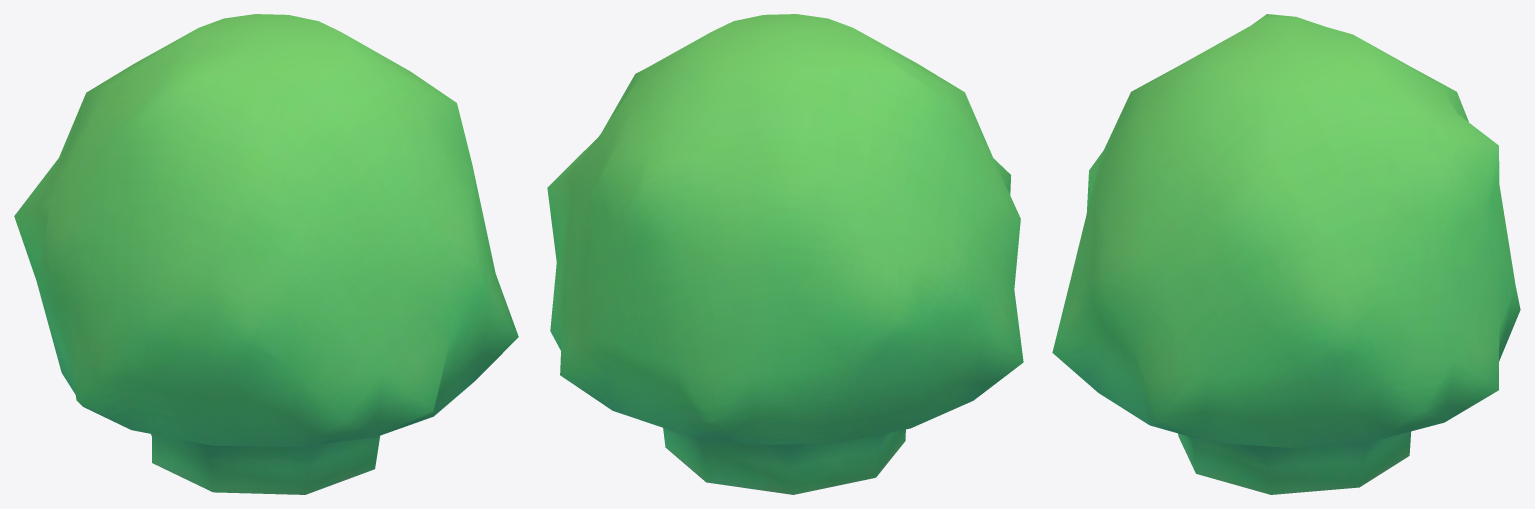
The model's file is bush.glb.
The picture shows the model from 3 angles, left to right: view 1: azimuth 30°, elevation 25°; view 2: azimuth 150°, elevation 25°; view 3: azimuth 270°, elevation 25°; orthographic projection. The views are drawn at different scales.
Parts seen in each view (by area): view 1: Bush001; view 2: Bush001; view 3: Bush001.
Boxes of the visible parts, x1=… form: Bush001: x1=14, y1=14, x2=518, y2=494; Bush001: x1=547, y1=14, x2=1023, y2=494; Bush001: x1=1052, y1=14, x2=1520, y2=494.
Size of the model in its own units: 2.93 by 2.68 by 2.84.
1 material, 1 textured.
